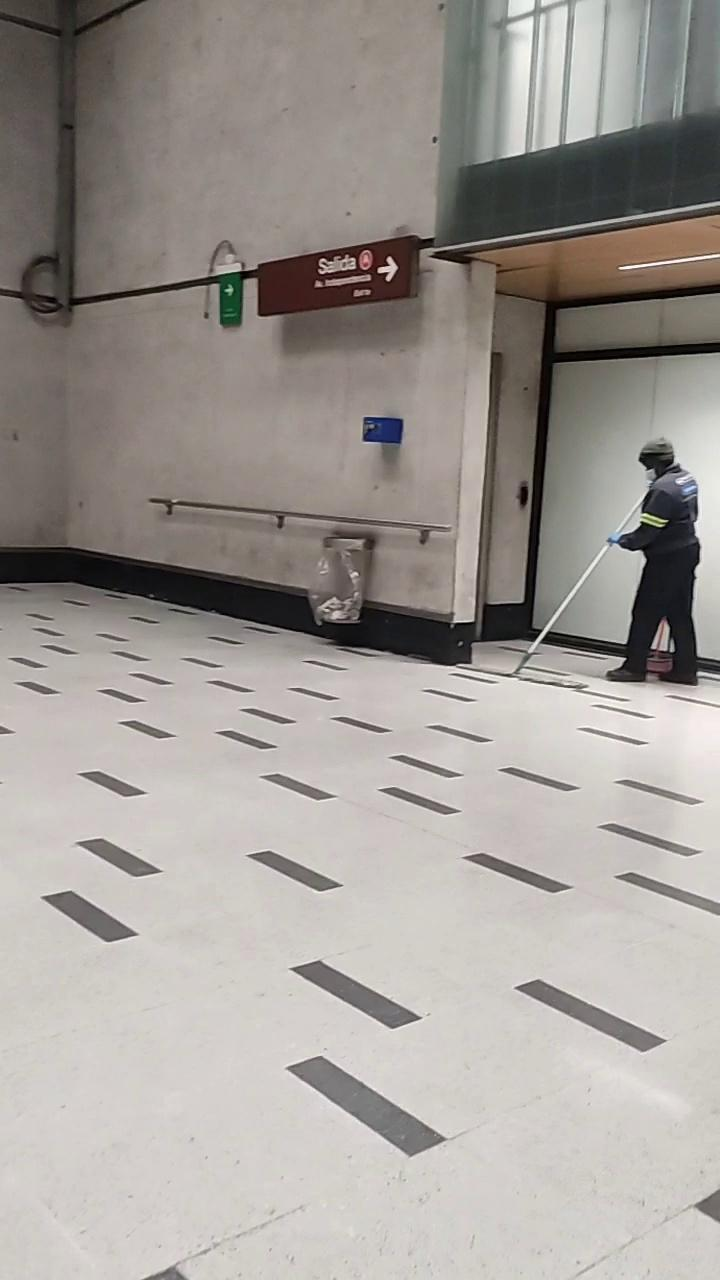right arrow: (377, 253, 402, 284)
